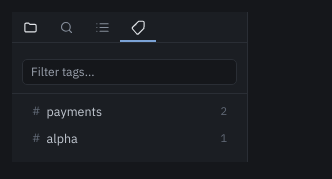
LeftSidebar › Tags tab (M10.25) › lists workspace tags with counts, filterable by name
Expected: the text "payments" is shown, x1=47 y1=102 x2=102 y2=121
Expected: the text "2" is shown, x1=220 y1=103 x2=227 y2=120
Type "pay" into the field with placeholder "Filter tags..." at [130, 72], box x1=22 y1=59 x2=237 y2=85
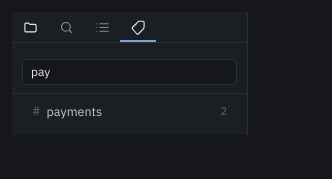
Expected: the text "payments" is shown, x1=47 y1=102 x2=102 y2=121
Now the button "alpha" is gone
